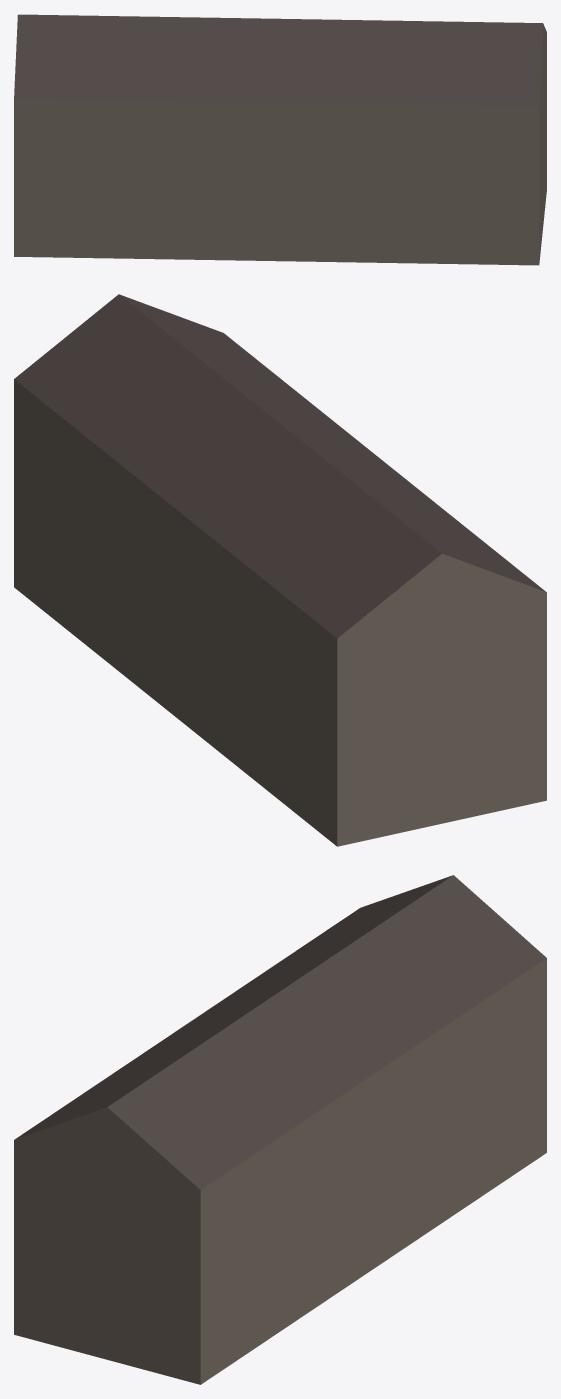
3 views of the same model, one above another, from view 1: azimuth 30°, elevation 25°; view 2: azimuth 150°, elevation 25°; view 3: azimuth 270°, elevation 25° (orthographic). The views are drawn at different scales.
Parts seen in each view (by area): view 1: HP-w858807431; view 2: HP-w858807431; view 3: HP-w858807431.
Boxes of the visible parts, <box> form: HP-w858807431: <box>14,14,546,265</box>; HP-w858807431: <box>14,294,546,846</box>; HP-w858807431: <box>14,875,546,1384</box>.
Bounding box in the file's own units: 27.98 × 11.67 × 22.32.
